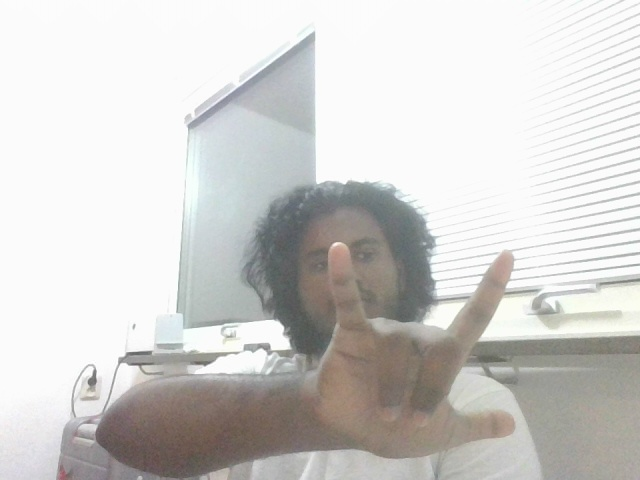I Love You: (321, 225, 533, 473)
